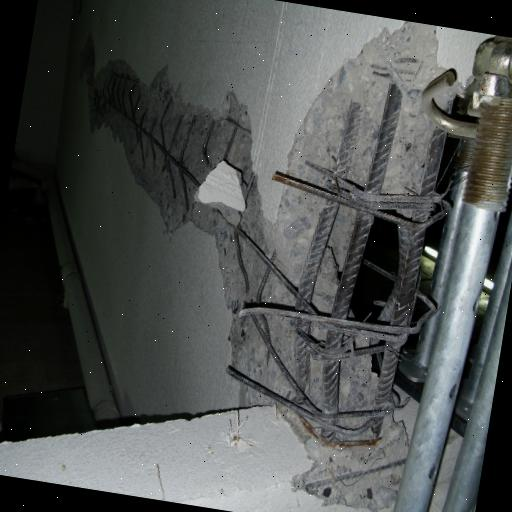spalling: (79, 20, 464, 511)
